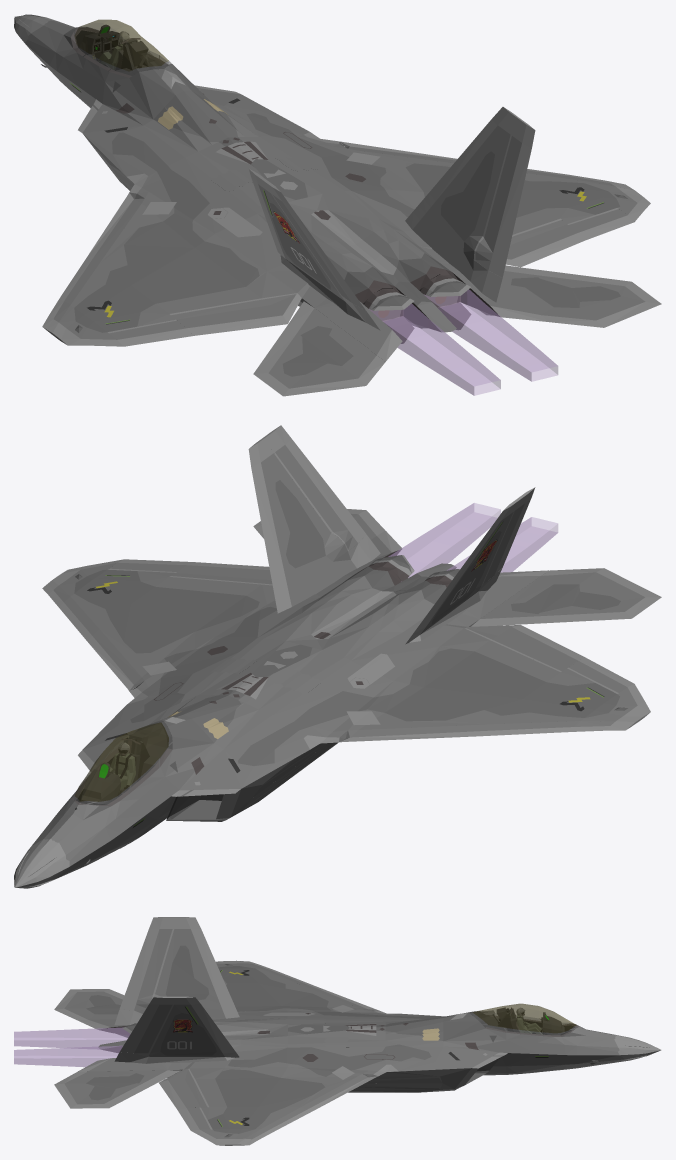
The picture shows the model from 3 angles, top to bottom: view 1: azimuth 30°, elevation 25°; view 2: azimuth 150°, elevation 25°; view 3: azimuth 270°, elevation 25°; orthographic projection. The views are drawn at different scales.
Parts seen in each view (by area): view 1: ShapeIndexedFaceSet.001_ShapeIndexedFaceSet.002, ShapeIndexedFaceSet.002_ShapeIndexedFaceSet.003, ShapeIndexedFaceSet_ShapeIndexedFaceSet.001, ShapeIndexedFaceSet.065_ShapeIndexedFaceSet.066, ShapeIndexedFaceSet.161_ShapeIndexedFaceSet.162, ShapeIndexedFaceSet.068_ShapeIndexedFaceSet.069, ShapeIndexedFaceSet.072_ShapeIndexedFaceSet.073, ShapeIndexedFaceSet.064_ShapeIndexedFaceSet.065, ShapeIndexedFaceSet.148_ShapeIndexedFaceSet.149, ShapeIndexedFaceSet.004_ShapeIndexedFaceSet.005, ShapeIndexedFaceSet.005_ShapeIndexedFaceSet.006, ShapeIndexedFaceSet.056_ShapeIndexedFaceSet.057 (+29 smaller); view 2: ShapeIndexedFaceSet.001_ShapeIndexedFaceSet.002, ShapeIndexedFaceSet.002_ShapeIndexedFaceSet.003, ShapeIndexedFaceSet_ShapeIndexedFaceSet.001, ShapeIndexedFaceSet.161_ShapeIndexedFaceSet.162, ShapeIndexedFaceSet.065_ShapeIndexedFaceSet.066, ShapeIndexedFaceSet.003_ShapeIndexedFaceSet.004, ShapeIndexedFaceSet.005_ShapeIndexedFaceSet.006, ShapeIndexedFaceSet.064_ShapeIndexedFaceSet.065, ShapeIndexedFaceSet.148_ShapeIndexedFaceSet.149, ShapeIndexedFaceSet.072_ShapeIndexedFaceSet.073, ShapeIndexedFaceSet.066_ShapeIndexedFaceSet.067, ShapeIndexedFaceSet.048_ShapeIndexedFaceSet.049 (+17 smaller); view 3: ShapeIndexedFaceSet.001_ShapeIndexedFaceSet.002, ShapeIndexedFaceSet.002_ShapeIndexedFaceSet.003, ShapeIndexedFaceSet_ShapeIndexedFaceSet.001, ShapeIndexedFaceSet.161_ShapeIndexedFaceSet.162, ShapeIndexedFaceSet.070_ShapeIndexedFaceSet.071, ShapeIndexedFaceSet.068_ShapeIndexedFaceSet.069, ShapeIndexedFaceSet.071_ShapeIndexedFaceSet.072, ShapeIndexedFaceSet.067_ShapeIndexedFaceSet.068, ShapeIndexedFaceSet.072_ShapeIndexedFaceSet.073, ShapeIndexedFaceSet.003_ShapeIndexedFaceSet.004, ShapeIndexedFaceSet.065_ShapeIndexedFaceSet.066, ShapeIndexedFaceSet.069_ShapeIndexedFaceSet.070 (+23 smaller).
Boxes of the visible parts, x1,y1,x2,y2 form: ShapeIndexedFaceSet.001_ShapeIndexedFaceSet.002: (25, 20, 637, 354); ShapeIndexedFaceSet.002_ShapeIndexedFaceSet.003: (74, 64, 619, 332); ShapeIndexedFaceSet_ShapeIndexedFaceSet.001: (14, 14, 650, 361); ShapeIndexedFaceSet.065_ShapeIndexedFaceSet.066: (268, 308, 376, 388); ShapeIndexedFaceSet.161_ShapeIndexedFaceSet.162: (74, 19, 168, 71); ShapeIndexedFaceSet.068_ShapeIndexedFaceSet.069: (501, 271, 645, 320); ShapeIndexedFaceSet.072_ShapeIndexedFaceSet.073: (474, 116, 535, 277); ShapeIndexedFaceSet.064_ShapeIndexedFaceSet.065: (253, 301, 385, 396); ShapeIndexedFaceSet.148_ShapeIndexedFaceSet.149: (102, 89, 380, 237); ShapeIndexedFaceSet.004_ShapeIndexedFaceSet.005: (71, 27, 499, 331); ShapeIndexedFaceSet.005_ShapeIndexedFaceSet.006: (130, 142, 450, 328); ShapeIndexedFaceSet.056_ShapeIndexedFaceSet.057: (171, 293, 296, 328); ShapeIndexedFaceSet.001_ShapeIndexedFaceSet.002: (31, 453, 637, 879); ShapeIndexedFaceSet.002_ShapeIndexedFaceSet.003: (74, 480, 619, 765); ShapeIndexedFaceSet_ShapeIndexedFaceSet.001: (14, 438, 650, 888); ShapeIndexedFaceSet.161_ShapeIndexedFaceSet.162: (75, 722, 168, 801); ShapeIndexedFaceSet.065_ShapeIndexedFaceSet.066: (480, 572, 644, 618); ShapeIndexedFaceSet.003_ShapeIndexedFaceSet.004: (81, 721, 177, 819); ShapeIndexedFaceSet.005_ShapeIndexedFaceSet.006: (130, 566, 446, 819); ShapeIndexedFaceSet.064_ShapeIndexedFaceSet.065: (471, 568, 661, 626); ShapeIndexedFaceSet.148_ShapeIndexedFaceSet.149: (120, 651, 394, 848); ShapeIndexedFaceSet.072_ShapeIndexedFaceSet.073: (262, 425, 366, 550); ShapeIndexedFaceSet.066_ShapeIndexedFaceSet.067: (511, 584, 620, 613); ShapeIndexedFaceSet.048_ShapeIndexedFaceSet.049: (348, 721, 615, 737); ShapeIndexedFaceSet.001_ShapeIndexedFaceSet.002: (78, 929, 624, 1138); ShapeIndexedFaceSet.002_ShapeIndexedFaceSet.003: (160, 945, 485, 1133); ShapeIndexedFaceSet_ShapeIndexedFaceSet.001: (78, 917, 661, 1145); ShapeIndexedFaceSet.161_ShapeIndexedFaceSet.162: (473, 1003, 576, 1032); ShapeIndexedFaceSet.070_ShapeIndexedFaceSet.071: (119, 917, 177, 1010); ShapeIndexedFaceSet.068_ShapeIndexedFaceSet.069: (64, 1070, 166, 1104); ShapeIndexedFaceSet.071_ShapeIndexedFaceSet.072: (134, 929, 172, 1010); ShapeIndexedFaceSet.067_ShapeIndexedFaceSet.068: (54, 1070, 180, 1108); ShapeIndexedFaceSet.072_ShapeIndexedFaceSet.073: (120, 996, 177, 1053); ShapeIndexedFaceSet.003_ShapeIndexedFaceSet.004: (469, 1007, 564, 1035); ShapeIndexedFaceSet.065_ShapeIndexedFaceSet.066: (64, 991, 122, 1019); ShapeIndexedFaceSet.069_ShapeIndexedFaceSet.070: (86, 1073, 144, 1100).
Size of the model in its own units: 136 by 41.07 by 202.
